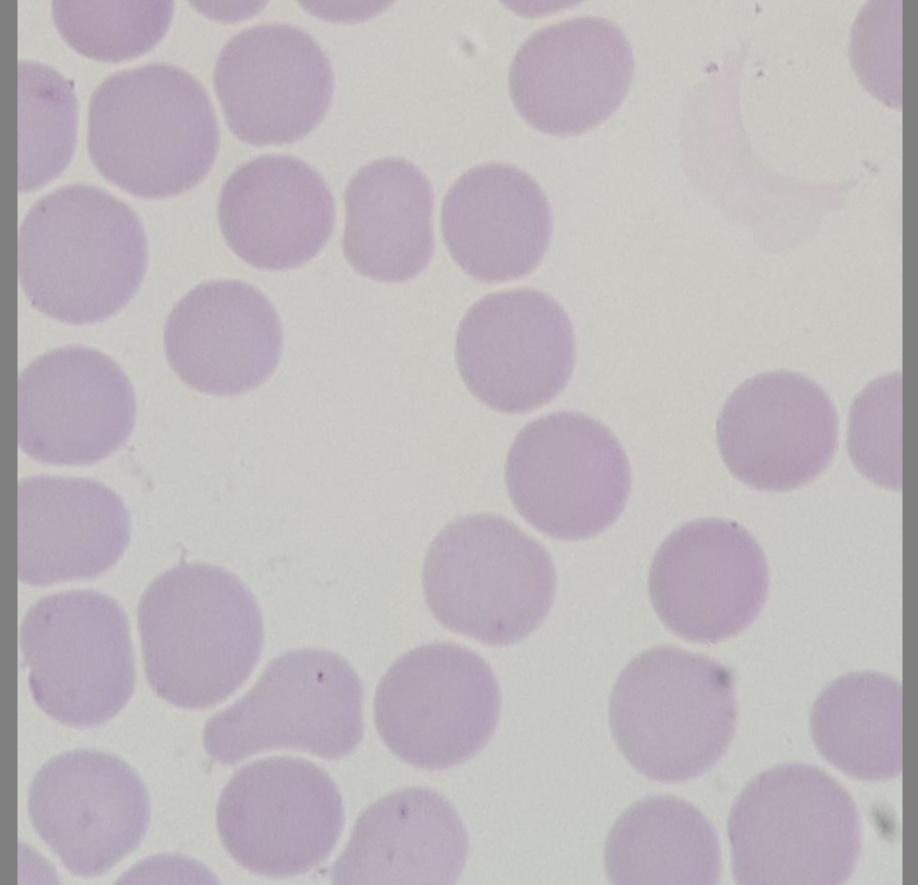Uninfected: (208, 649, 366, 766), (137, 564, 265, 708), (20, 183, 147, 323), (88, 65, 221, 196), (423, 514, 553, 646), (20, 585, 140, 726), (609, 648, 738, 779), (505, 410, 630, 540), (373, 644, 500, 768), (28, 747, 150, 875), (216, 757, 346, 876), (648, 517, 769, 643), (19, 343, 138, 469), (730, 768, 858, 882), (455, 289, 574, 410), (510, 17, 633, 133), (717, 372, 836, 491), (214, 26, 335, 143), (164, 279, 281, 394), (218, 156, 335, 271), (18, 472, 131, 587), (442, 167, 554, 280), (341, 158, 437, 279)
